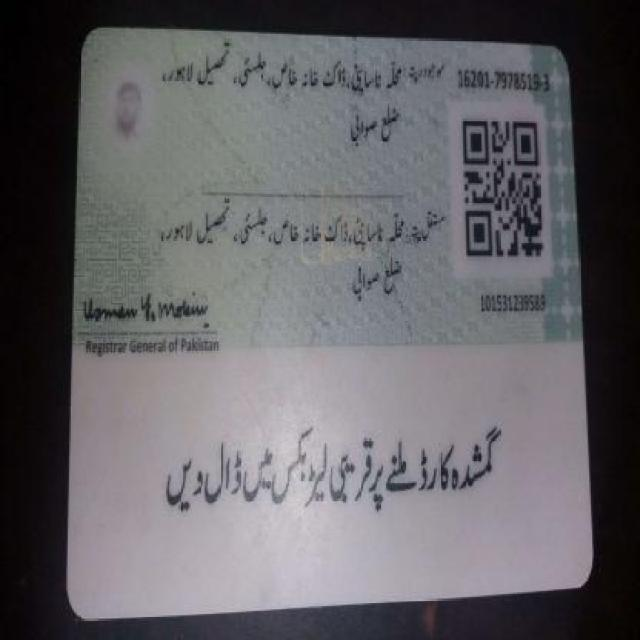Back: (66, 18, 599, 611)
